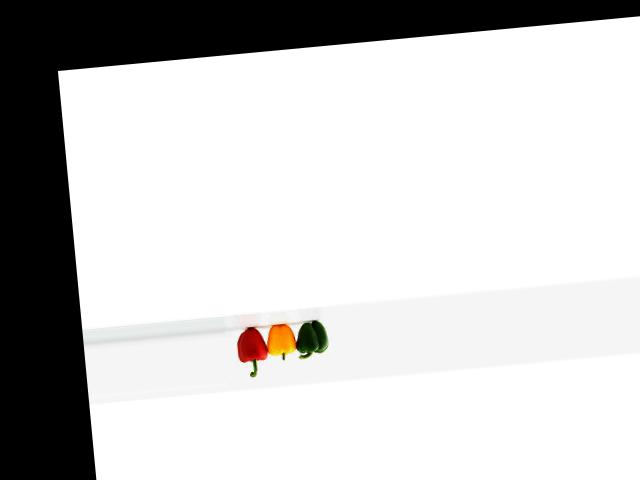bell_pepper: (226, 320, 273, 382)
